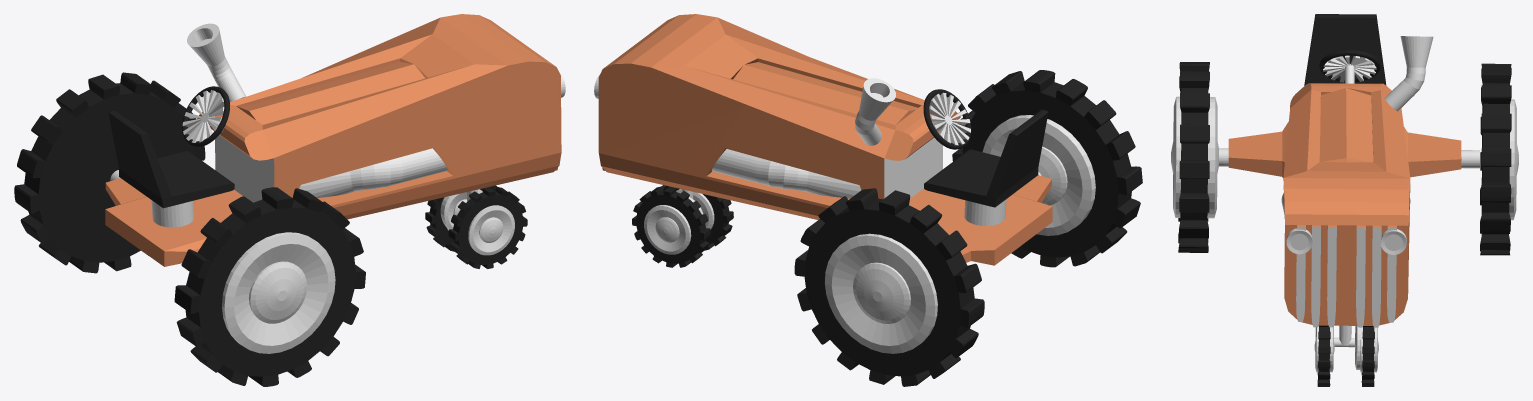
The model's file is tractor 2.fbx.
3 renders of one model, left to right at view 1: azimuth 30°, elevation 25°; view 2: azimuth 150°, elevation 25°; view 3: azimuth 270°, elevation 25°, orthographic. The views are drawn at different scales.
Visible parts, largest first — view 1: Cube.001, backwheel.001, backwheel, frontwheel, frongwheel; view 2: Cube.001, backwheel, backwheel.001, frongwheel, frontwheel; view 3: Cube.001, backwheel.001, backwheel, frontwheel, frongwheel.
Part boxes in pixels (x1,y1,x2,y2): Cube.001: (105, 14, 565, 266); backwheel.001: (174, 187, 365, 386); backwheel: (14, 72, 205, 273); frontwheel: (448, 186, 527, 268); frongwheel: (425, 185, 496, 251); Cube.001: (594, 14, 1052, 265); backwheel: (794, 188, 984, 386); backwheel.001: (952, 70, 1142, 267); frongwheel: (632, 186, 710, 267); frontwheel: (662, 185, 733, 250); Cube.001: (1219, 14, 1479, 369); backwheel.001: (1171, 62, 1218, 252); backwheel: (1480, 63, 1518, 255); frontwheel: (1314, 325, 1334, 386); frongwheel: (1360, 326, 1378, 386).
Bounding box in the file's own units: 516 × 295 × 381.
